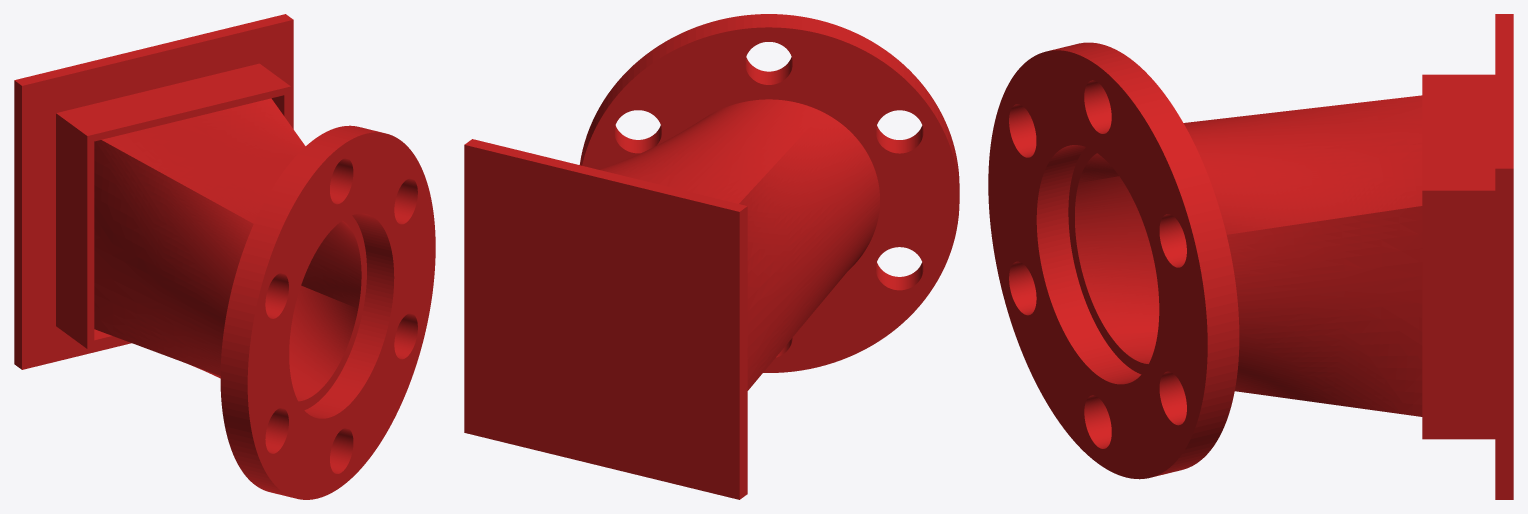
File: 0_colored.obj
The picture shows the model from 3 angles, left to right: view 1: azimuth 30°, elevation 25°; view 2: azimuth 150°, elevation 25°; view 3: azimuth 270°, elevation 25°; orthographic projection. The views are drawn at different scales.
Size of the model in its own units: 0.1089 by 0.12 by 0.1437.
